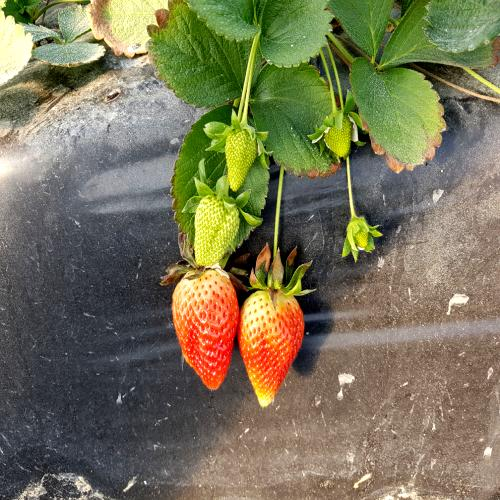partially-ripe: (234, 266, 311, 415), (172, 262, 240, 392)
